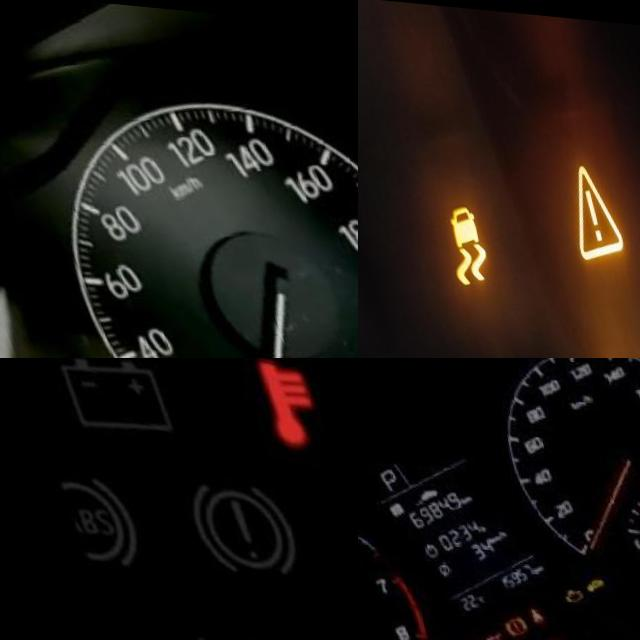Engine cooling system: (216, 358, 338, 456)
Low fuel level: (258, 597, 358, 640)
Seat Belt: (511, 590, 538, 615)
